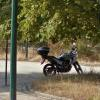Motorcycle: (34, 42, 87, 81)
